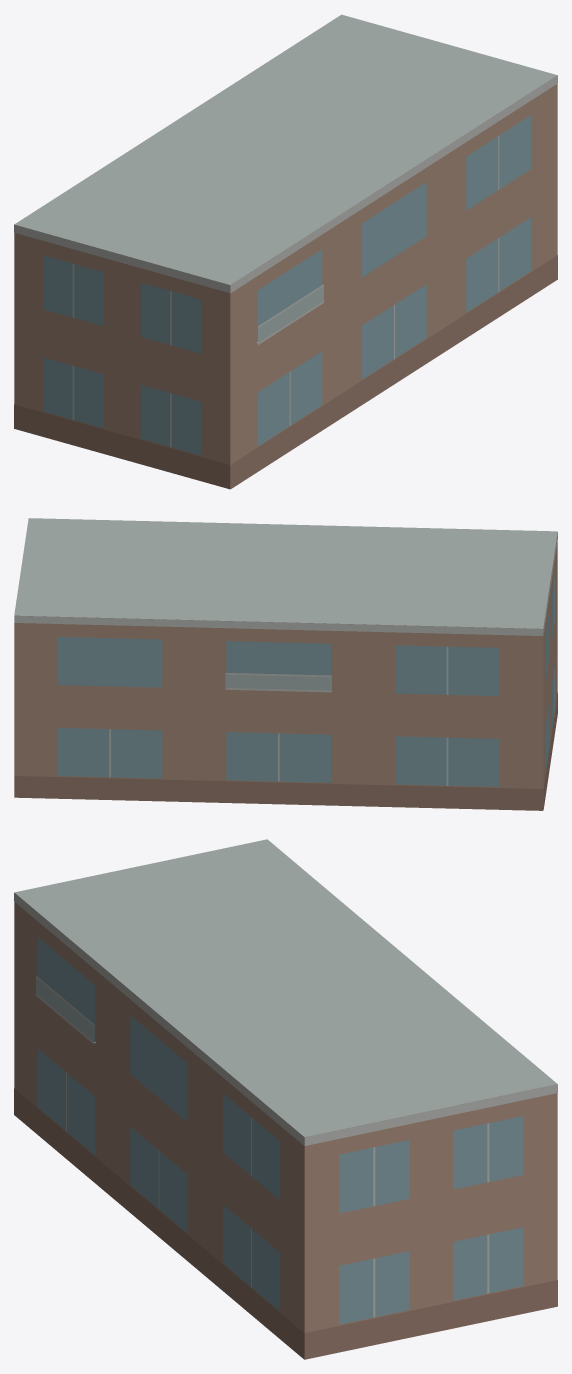
The model's file is survey-upis-32728528.glb.
3 views of the same model, one above another, from view 1: azimuth 30°, elevation 25°; view 2: azimuth 150°, elevation 25°; view 3: azimuth 270°, elevation 25° (orthographic). The views are drawn at different scales.
Visible parts, largest first — view 1: survey-upis-32728528.tmp; view 2: survey-upis-32728528.tmp; view 3: survey-upis-32728528.tmp.
Part boxes in pixels (box(x1,y1,x2,y2)): survey-upis-32728528.tmp: box(14, 14, 557, 489); survey-upis-32728528.tmp: box(14, 518, 557, 810); survey-upis-32728528.tmp: box(14, 839, 557, 1359).
Size of the model in its own units: 17.54 by 6.1 by 13.52.
